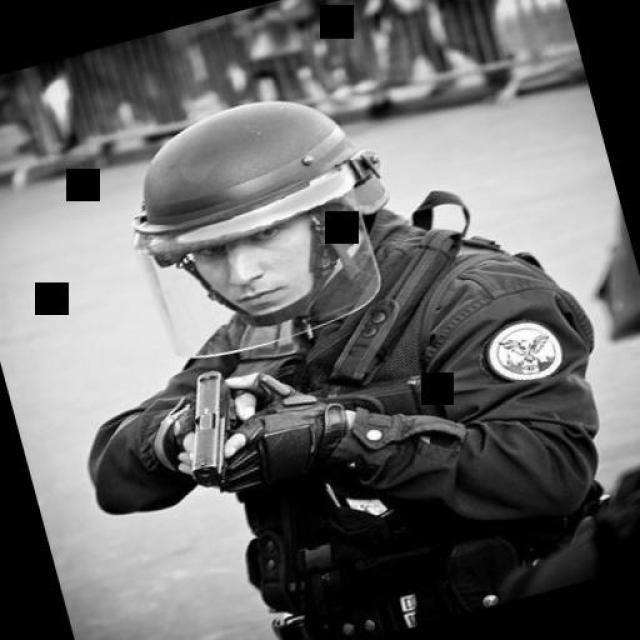gun: (165, 365, 257, 494)
